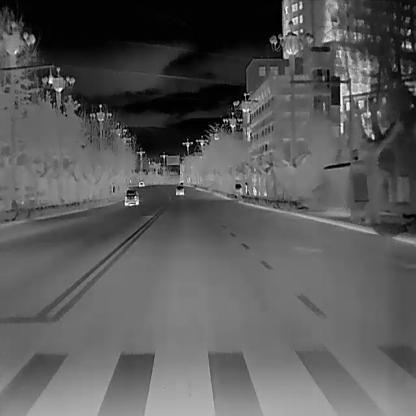car: (124, 189, 139, 206), (175, 181, 184, 195)
